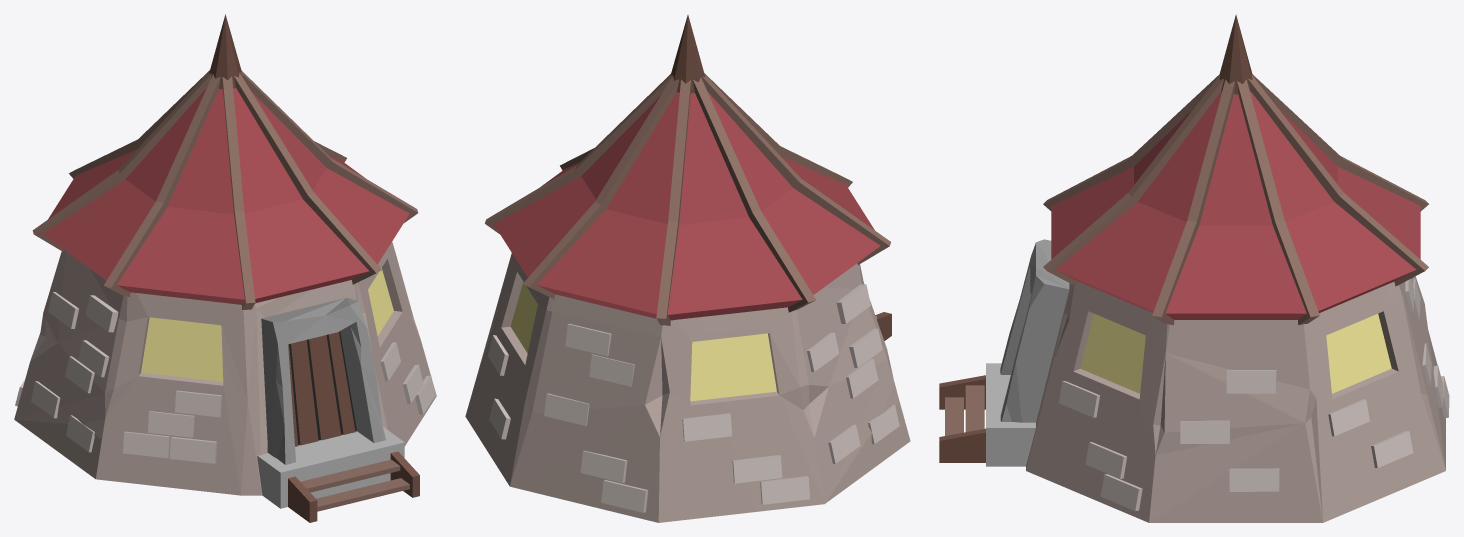
The model's file is building_003.fbx.
3 views of the same model, side by side, from view 1: azimuth 30°, elevation 25°; view 2: azimuth 150°, elevation 25°; view 3: azimuth 270°, elevation 25° (orthographic). The views are drawn at different scales.
Parts seen in each view (by area): view 1: building.003; view 2: building.003; view 3: building.003.
Boxes of the visible parts, <box> form: building.003: <box>14,14,436,522</box>; building.003: <box>465,15,910,522</box>; building.003: <box>939,14,1449,522</box>.
Bounding box in the file's own units: 786 × 867 × 954.
Materials: 1 (1 with a texture image).
